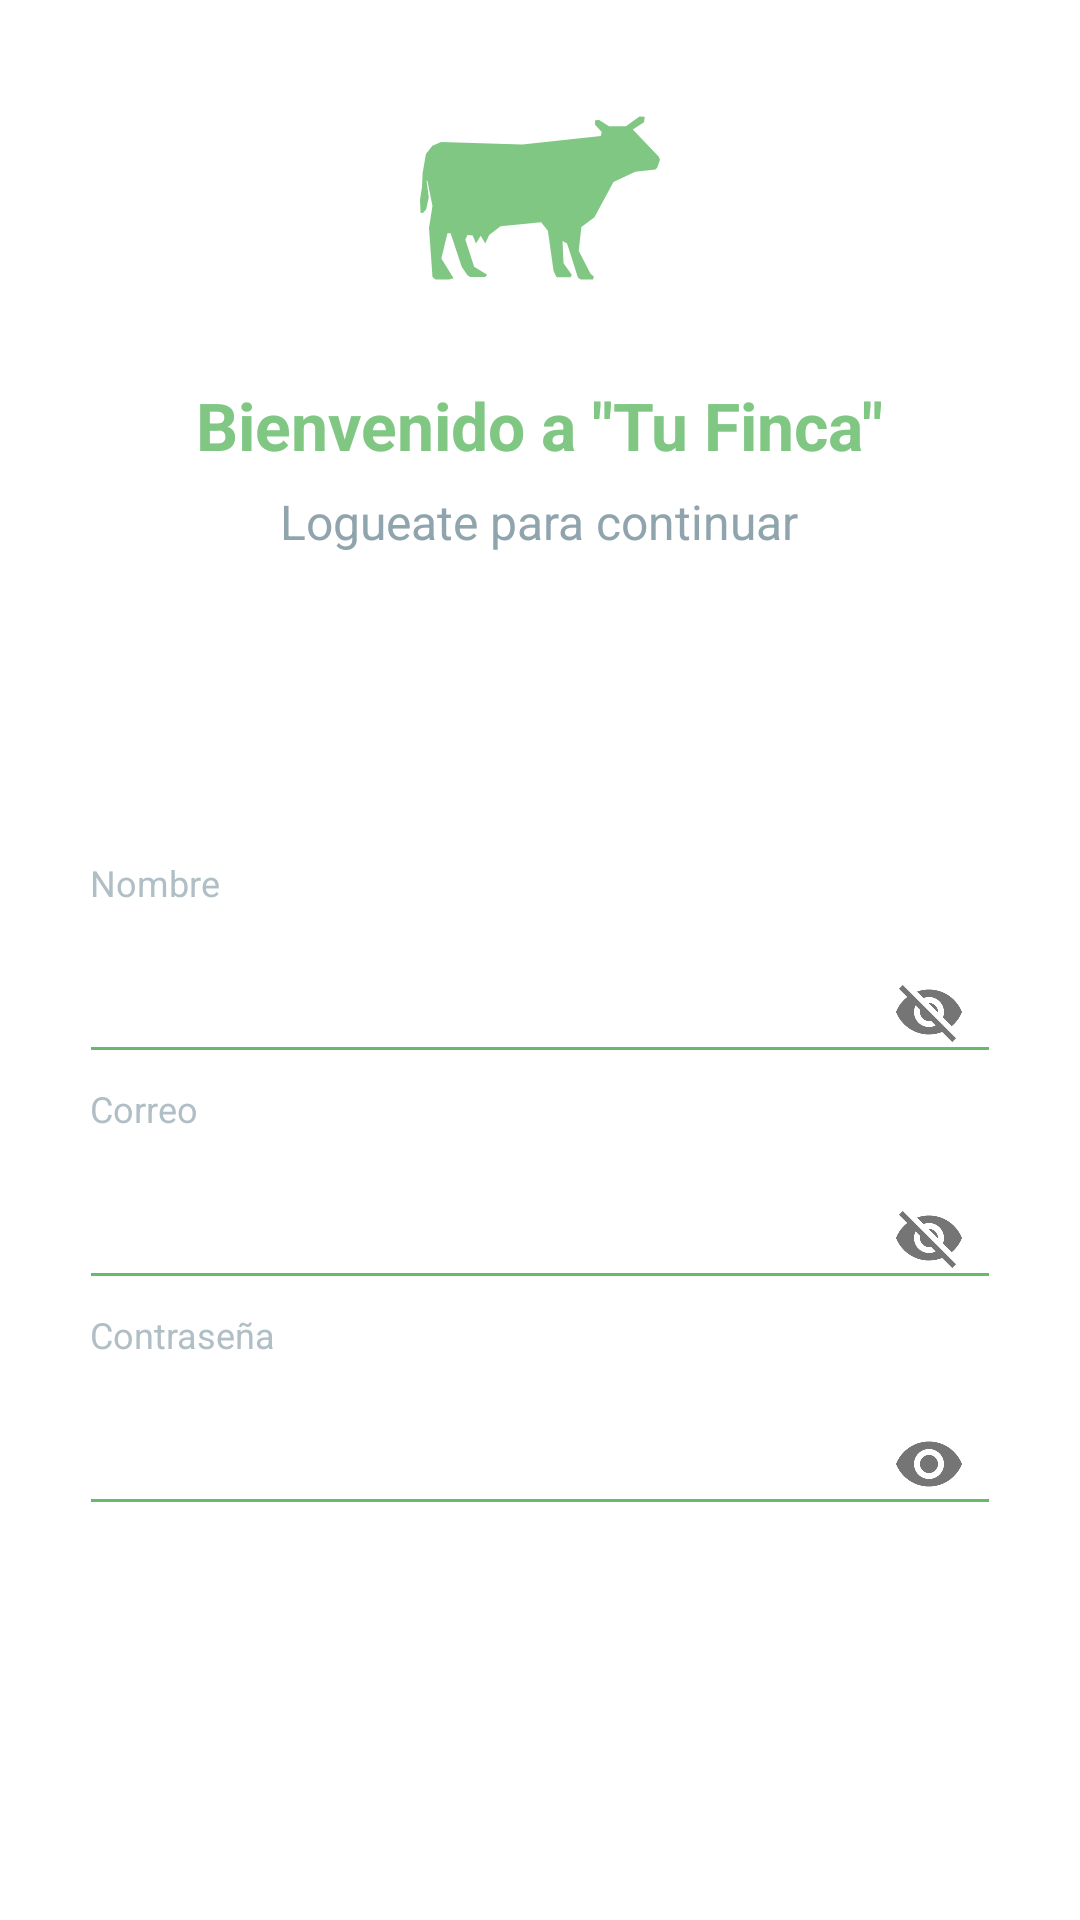

Named icons in this screenshot (1080px×1920px) and their centers, (x=x, y=y):
cow: (x=540, y=198)
